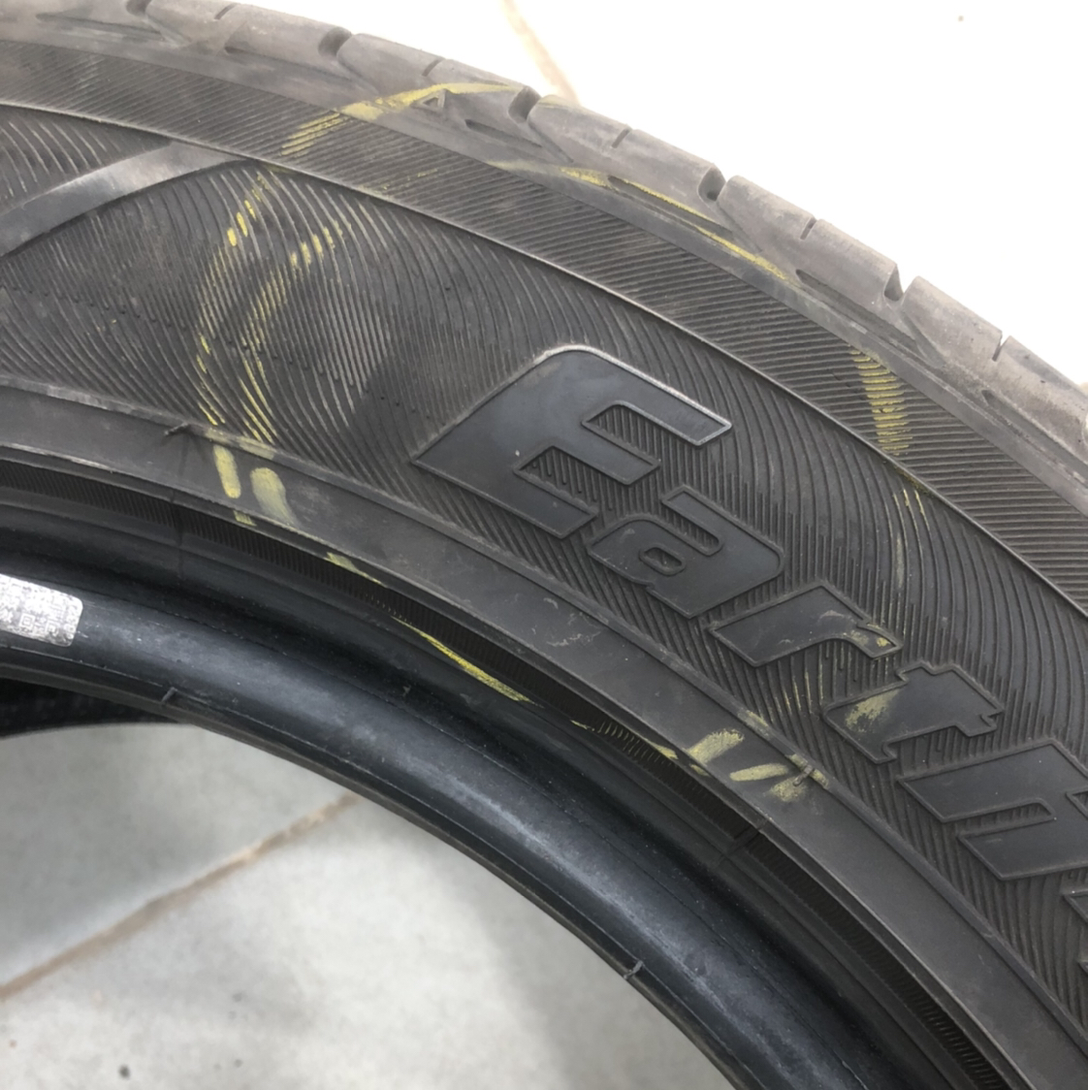CBU: (409, 299, 703, 580)
